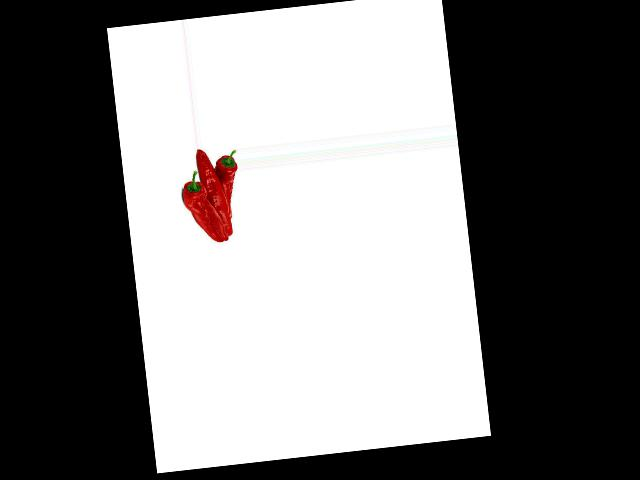bell_pepper: (177, 167, 220, 247)
